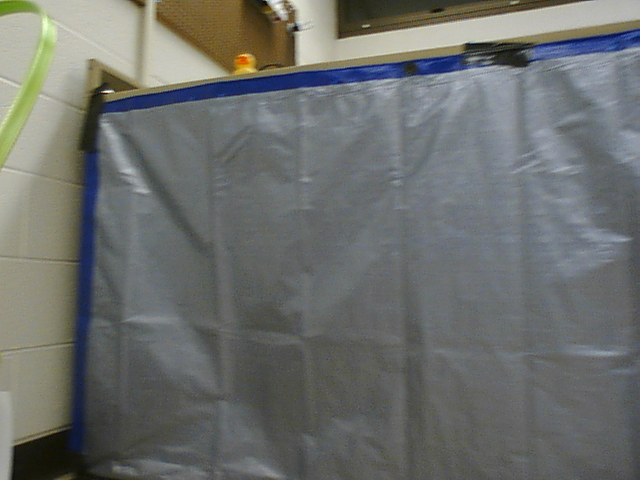bunny: (1, 1, 62, 173)
